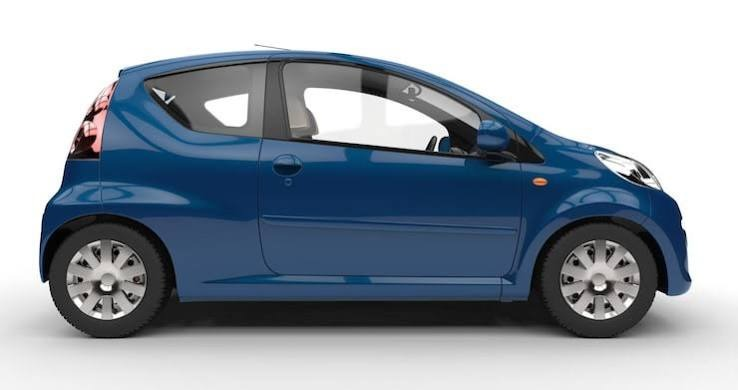car: (14, 41, 716, 338), (19, 44, 706, 337)
